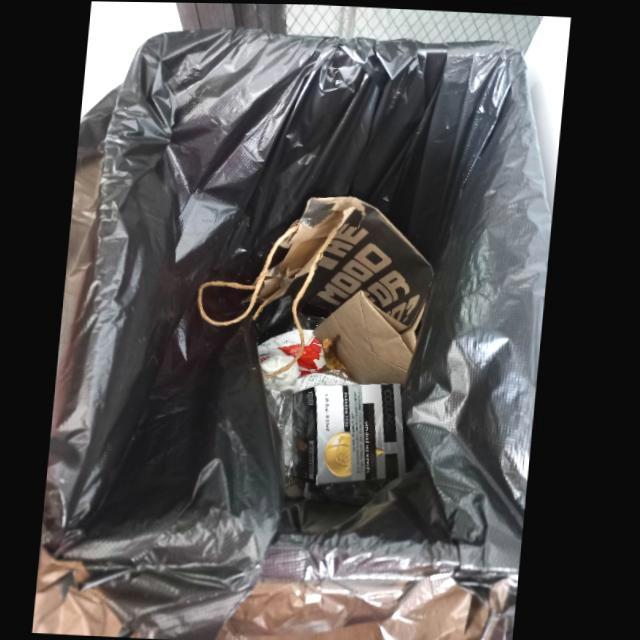cardboard: (298, 382, 412, 484)
paper: (199, 195, 437, 384)
